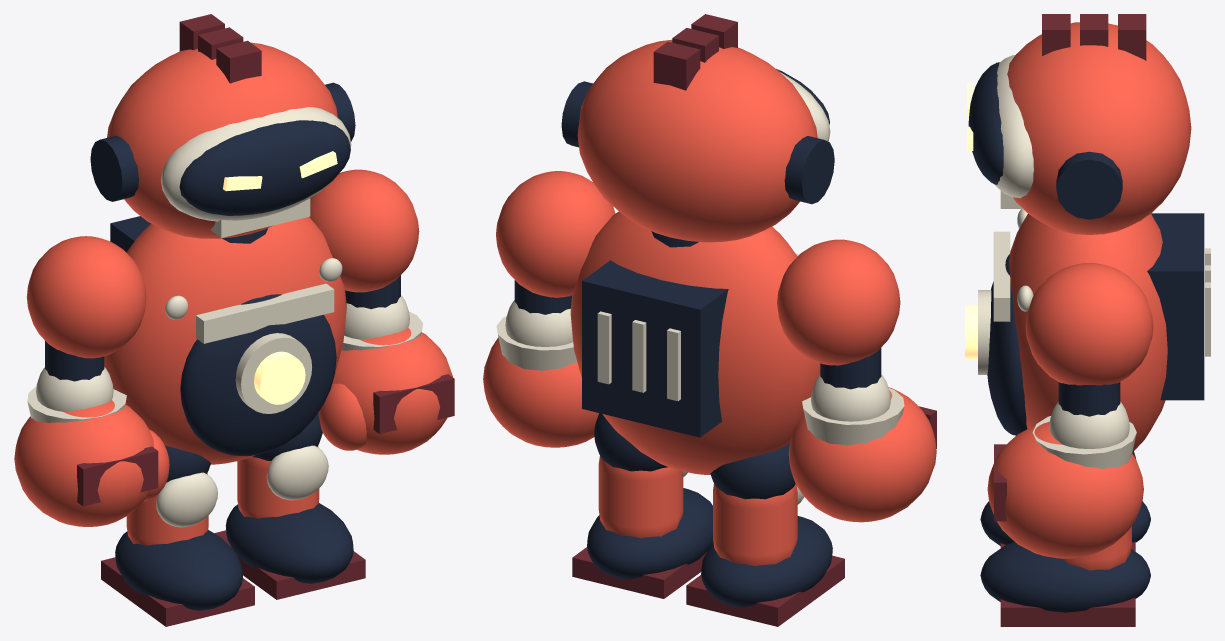
The model's file is rivet.glb.
The picture shows the model from 3 angles, left to right: view 1: azimuth 30°, elevation 25°; view 2: azimuth 150°, elevation 25°; view 3: azimuth 270°, elevation 25°; orthographic projection. The views are drawn at different scales.
Visible parts, largest first — view 1: armored chest, shoulder armor (×2), boxing gauntlet (×2), helmet shell, boot (×2), belly inset, smoked visor, knee cap (×2), boot sole (×2), shin armor (×2), elbow (×2), visor gasket (+12 smaller); view 2: helmet shell, armored chest, shoulder armor (×2), boxing gauntlet (×2), backpack, boot (×2), shin armor (×2), boot sole (×2), hip joint (×2), elbow (×2), glove cuff (×2), helmet receiver (×2) (+4 smaller); view 3: helmet shell, boxing gauntlet, armored chest, shoulder armor, boot (×2), backpack, belly inset, helmet receiver, visor gasket, helmet crest (×3), smoked visor, boot sole (+9 smaller).
Boxes of the visible parts, left/top/right/bottom form: armored chest: left=104, top=217, right=346, bottom=464; shoulder armor (×2): left=26, top=169, right=419, bottom=358; boxing gauntlet (×2): left=14, top=328, right=452, bottom=526; helmet shell: left=107, top=42, right=337, bottom=238; boot (×2): left=115, top=503, right=353, bottom=610; belly inset: left=180, top=294, right=336, bottom=456; smoked visor: left=179, top=120, right=350, bottom=215; knee cap (×2): left=156, top=445, right=328, bottom=527; boot sole (×2): left=101, top=530, right=365, bottom=626; shin armor (×2): left=126, top=445, right=319, bottom=545; elbow (×2): left=36, top=295, right=409, bottom=411; visor gasket: left=161, top=107, right=351, bottom=221; helmet shell: left=577, top=39, right=817, bottom=242; armored chest: left=570, top=211, right=820, bottom=474; shoulder armor (×2): left=496, top=171, right=900, bottom=365; boxing gauntlet (×2): left=483, top=337, right=936, bottom=522; backpack: left=582, top=260, right=728, bottom=437; boot (×2): left=587, top=488, right=832, bottom=607; shin armor (×2): left=598, top=456, right=797, bottom=565; boot sole (×2): left=572, top=542, right=844, bottom=626; hip joint (×2): left=594, top=413, right=795, bottom=499; elbow (×2): left=505, top=300, right=890, bottom=421; glove cuff (×2): left=496, top=316, right=904, bottom=445; helmet receiver (×2): left=561, top=81, right=834, bottom=204; helmet shell: left=1007, top=22, right=1191, bottom=234; boxing gauntlet: left=987, top=422, right=1143, bottom=558; armored chest: left=1008, top=213, right=1167, bottom=450; shoulder armor: left=1025, top=263, right=1153, bottom=385; boot (×2): left=980, top=501, right=1150, bottom=612; backpack: left=1147, top=213, right=1204, bottom=400; belly inset: left=987, top=254, right=1027, bottom=435; helmet receiver: left=1056, top=151, right=1122, bottom=219; visor gasket: left=994, top=55, right=1033, bottom=198; helmet crest (×3): left=1042, top=14, right=1146, bottom=60; smoked visor: left=968, top=62, right=1003, bottom=184; boot sole: left=1000, top=597, right=1135, bottom=626.
Size of the model in its own units: 2.12 by 2.6 by 1.04.
